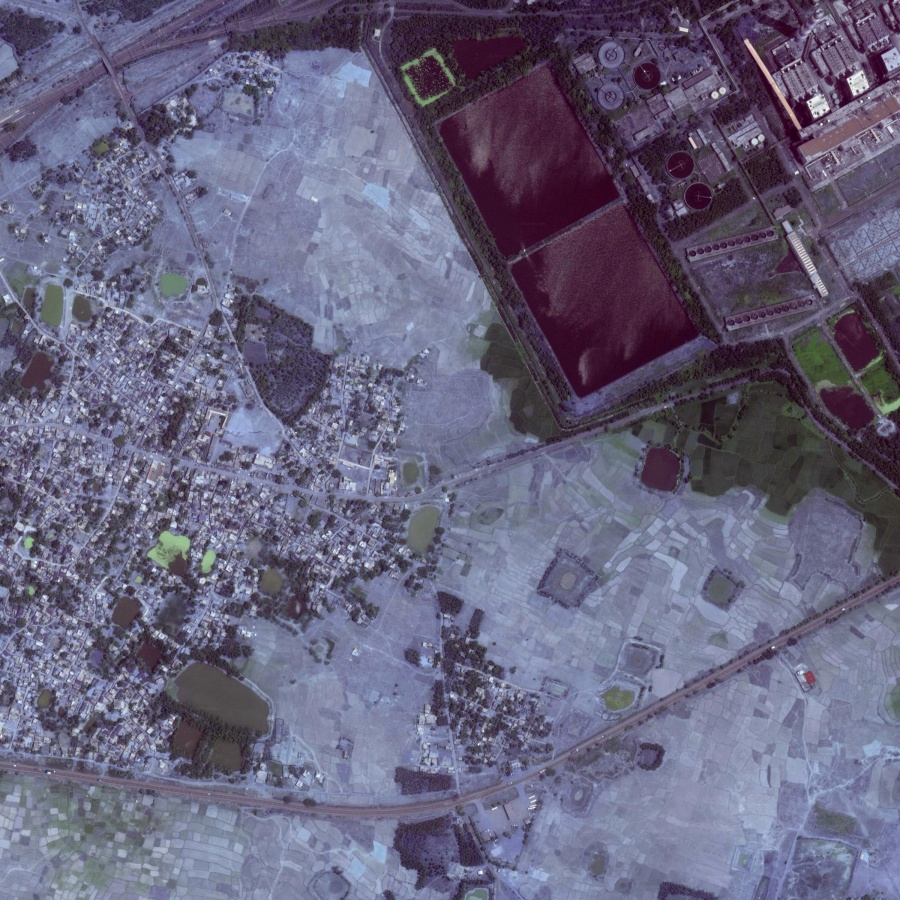PowerPlant: (410, 39, 772, 442)
